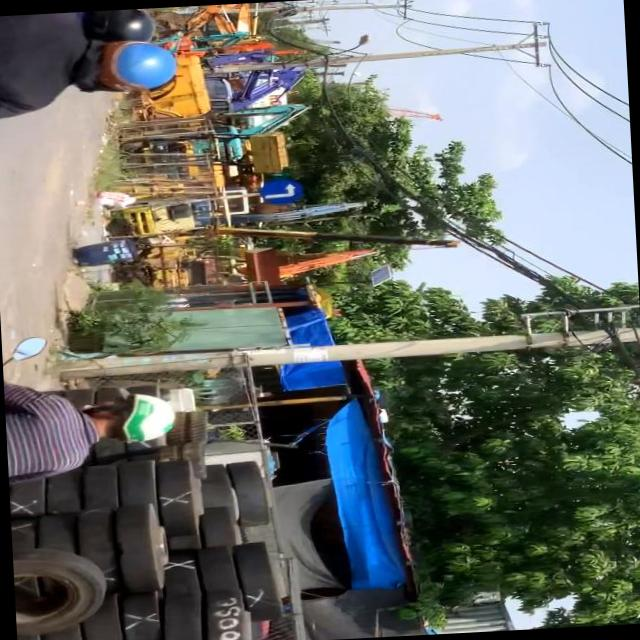R-301e: (262, 180, 300, 204)
